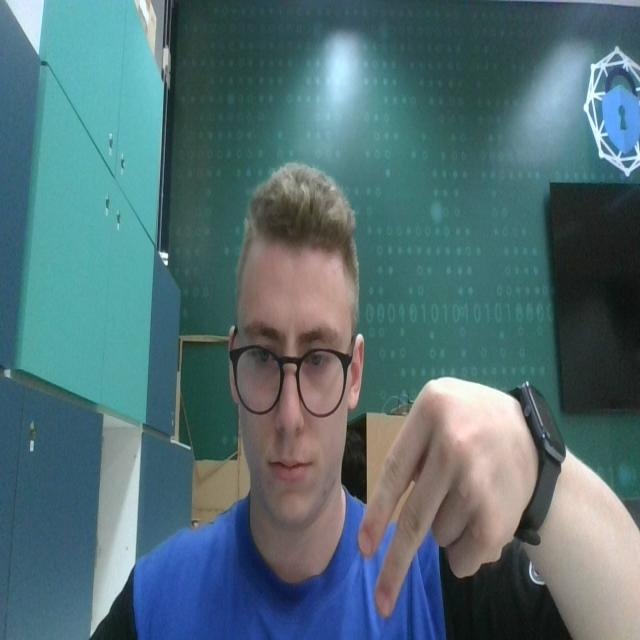N: (357, 347, 530, 624)
